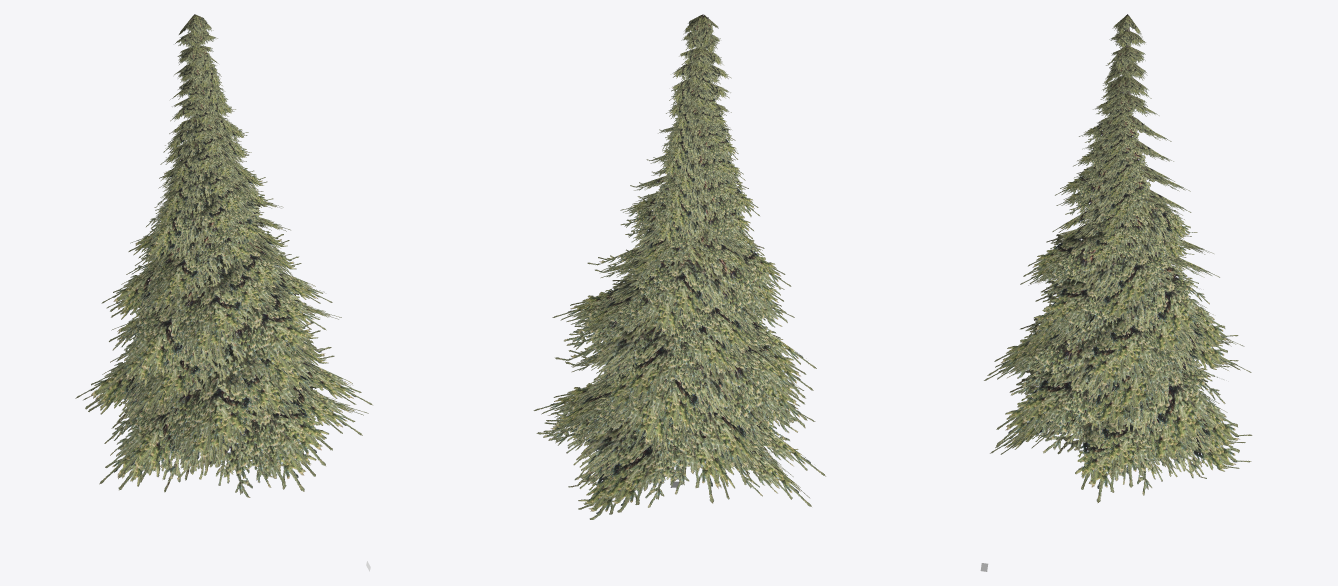
File: pine.obj
3 renders of one model, left to right at view 1: azimuth 30°, elevation 25°; view 2: azimuth 150°, elevation 25°; view 3: azimuth 270°, elevation 25°, orthographic. The views are drawn at different scales.
Parts seen in each view (by area): view 1: pine, TwoSided; view 2: pine, TwoSided; view 3: pine, TwoSided.
Boxes of the visible parts, x1,y1,x2,y2 form: pine: (75,14,372,571); TwoSided: (77,15,370,496); pine: (534,14,825,519); TwoSided: (535,15,823,519); pine: (980,14,1251,571); TwoSided: (984,16,1250,499).
Bounding box in the file's own units: 97.56 × 136 × 97.92.
3 materials, 2 textured.
